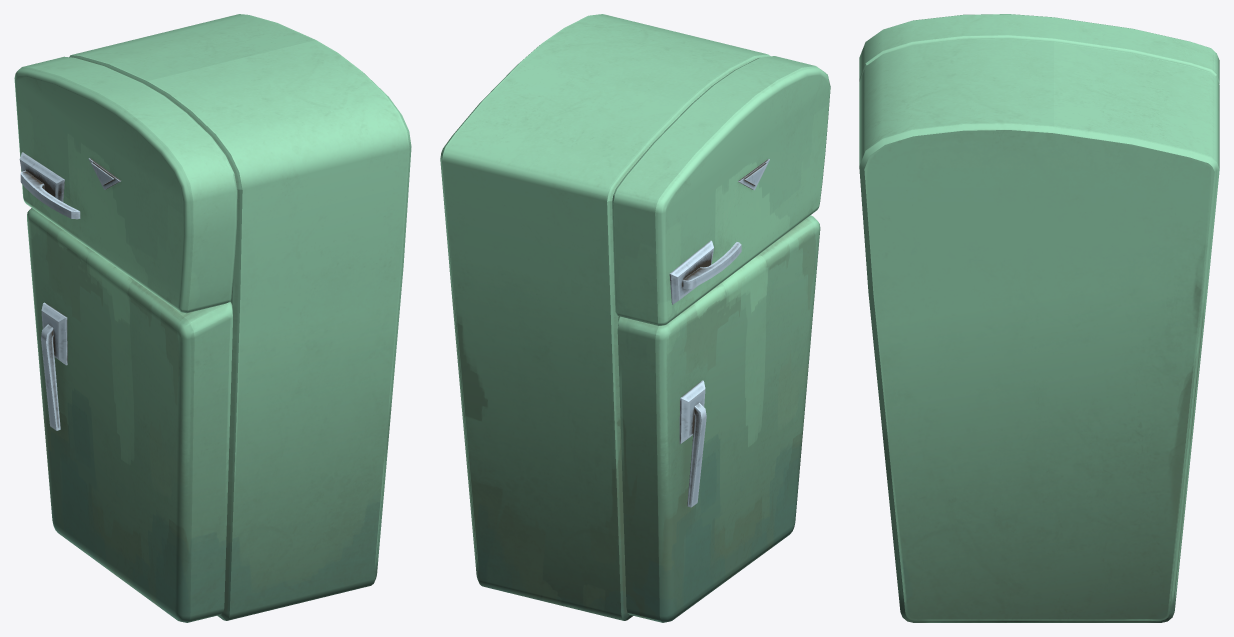
File: SM_Fridge.fbx
The picture shows the model from 3 angles, left to right: view 1: azimuth 30°, elevation 25°; view 2: azimuth 150°, elevation 25°; view 3: azimuth 270°, elevation 25°; orthographic projection. The views are drawn at different scales.
Visible parts, largest first — view 1: SM_Fridge_LOD0; view 2: SM_Fridge_LOD0; view 3: SM_Fridge_LOD0.
Boxes of the visible parts, x1,y1,x2,y2 form: SM_Fridge_LOD0: (14, 14, 411, 622); SM_Fridge_LOD0: (440, 14, 830, 622); SM_Fridge_LOD0: (859, 14, 1219, 622).
Size of the model in its own units: 122 by 152 by 236.
Materials: 1 (1 with a texture image).
